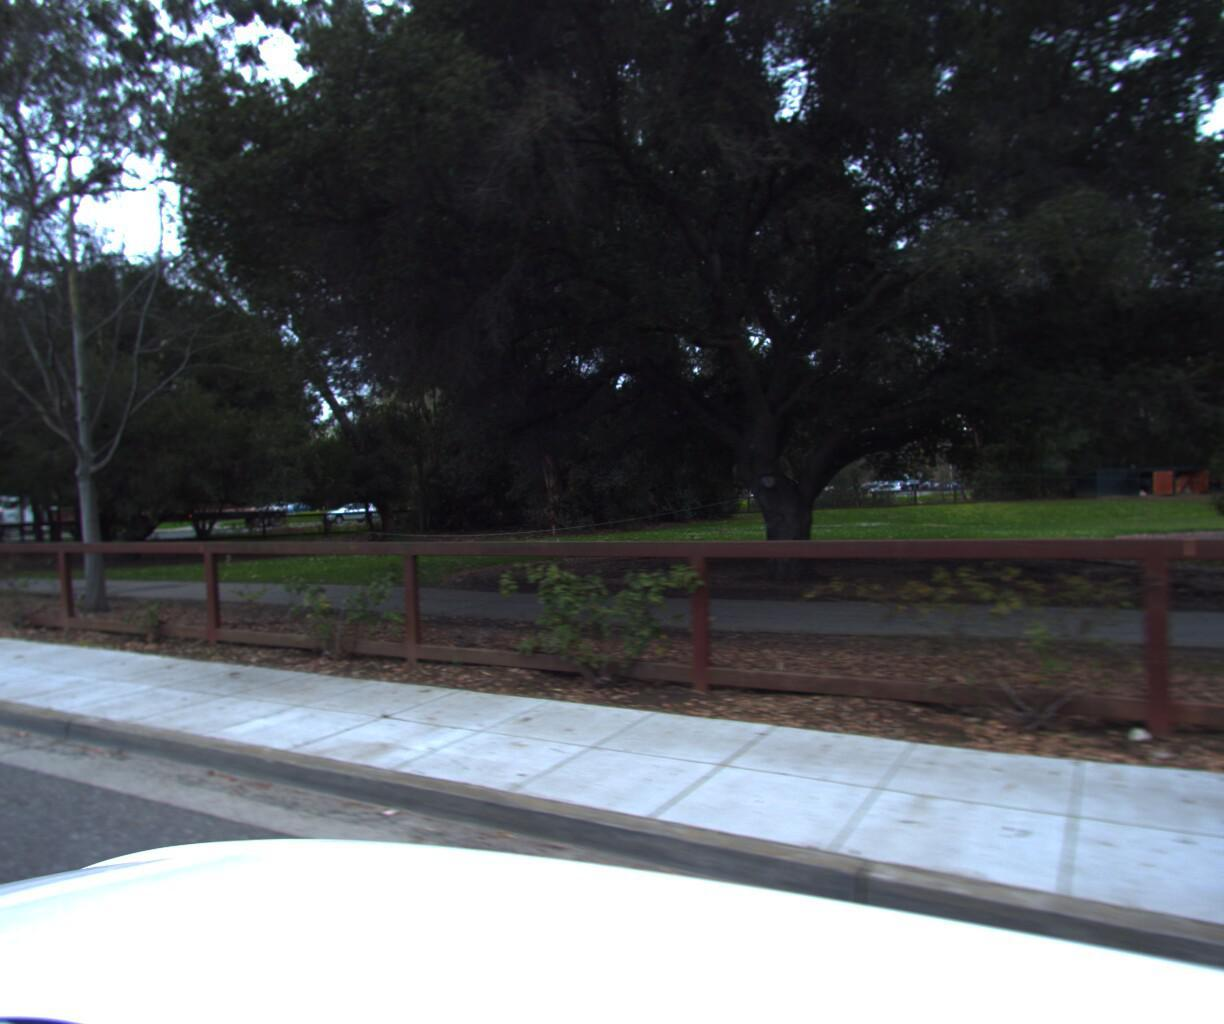truck: (0, 481, 290, 543)
